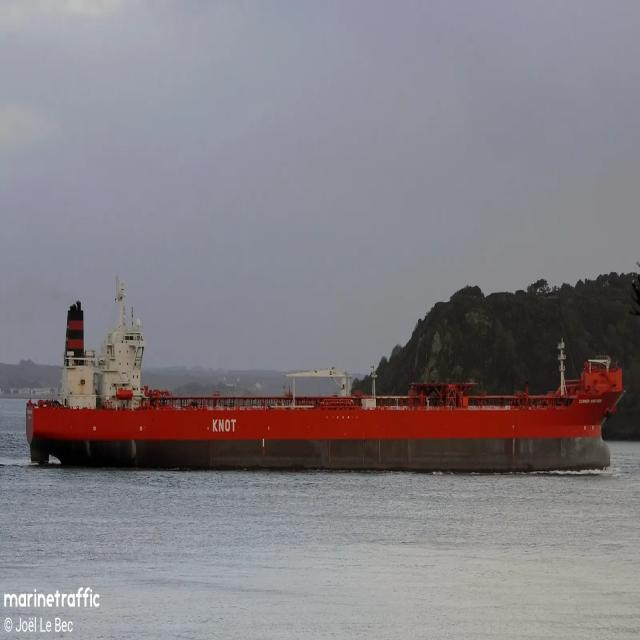Tanker: (26, 284, 623, 472)
